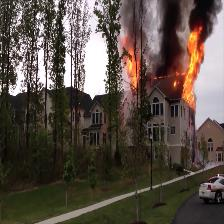fire: (181, 26, 205, 109), (122, 36, 140, 95)
